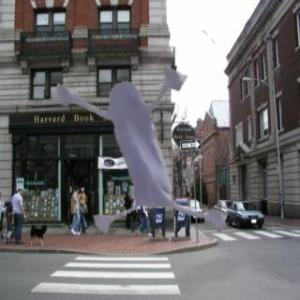drone: (12, 9, 297, 294)
